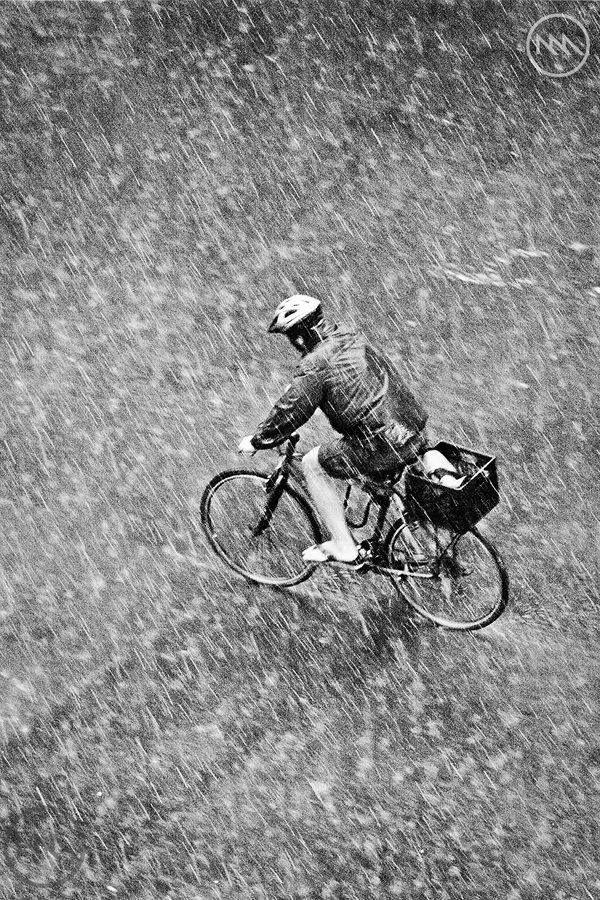bicycle: (201, 429, 509, 636)
